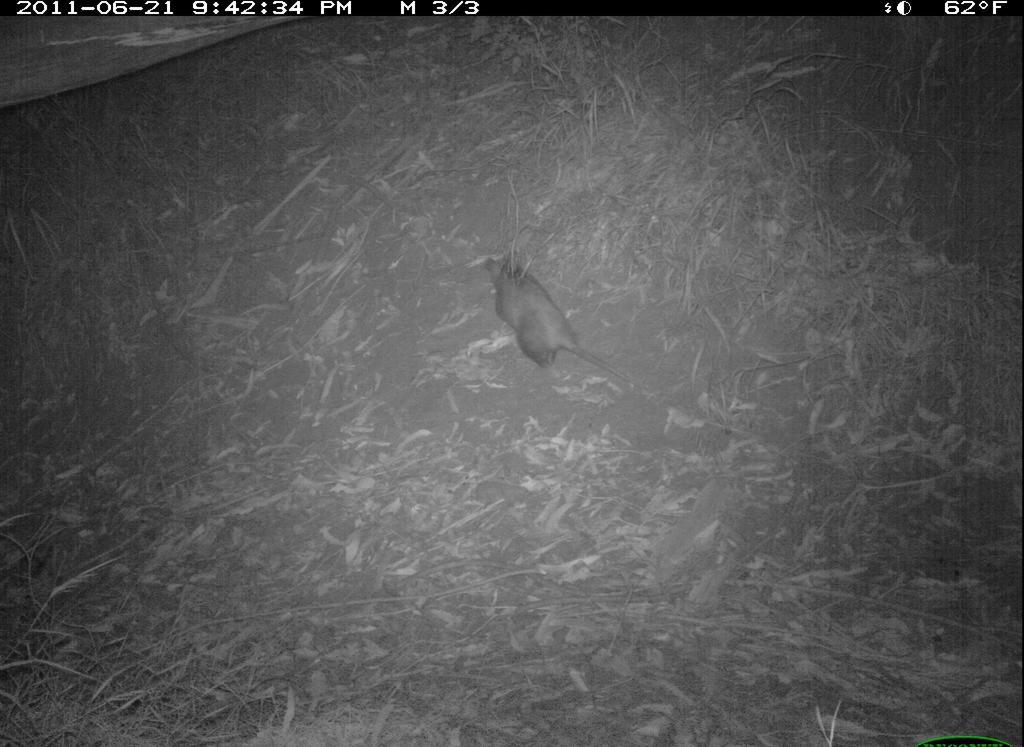opossum: (469, 239, 644, 414)
